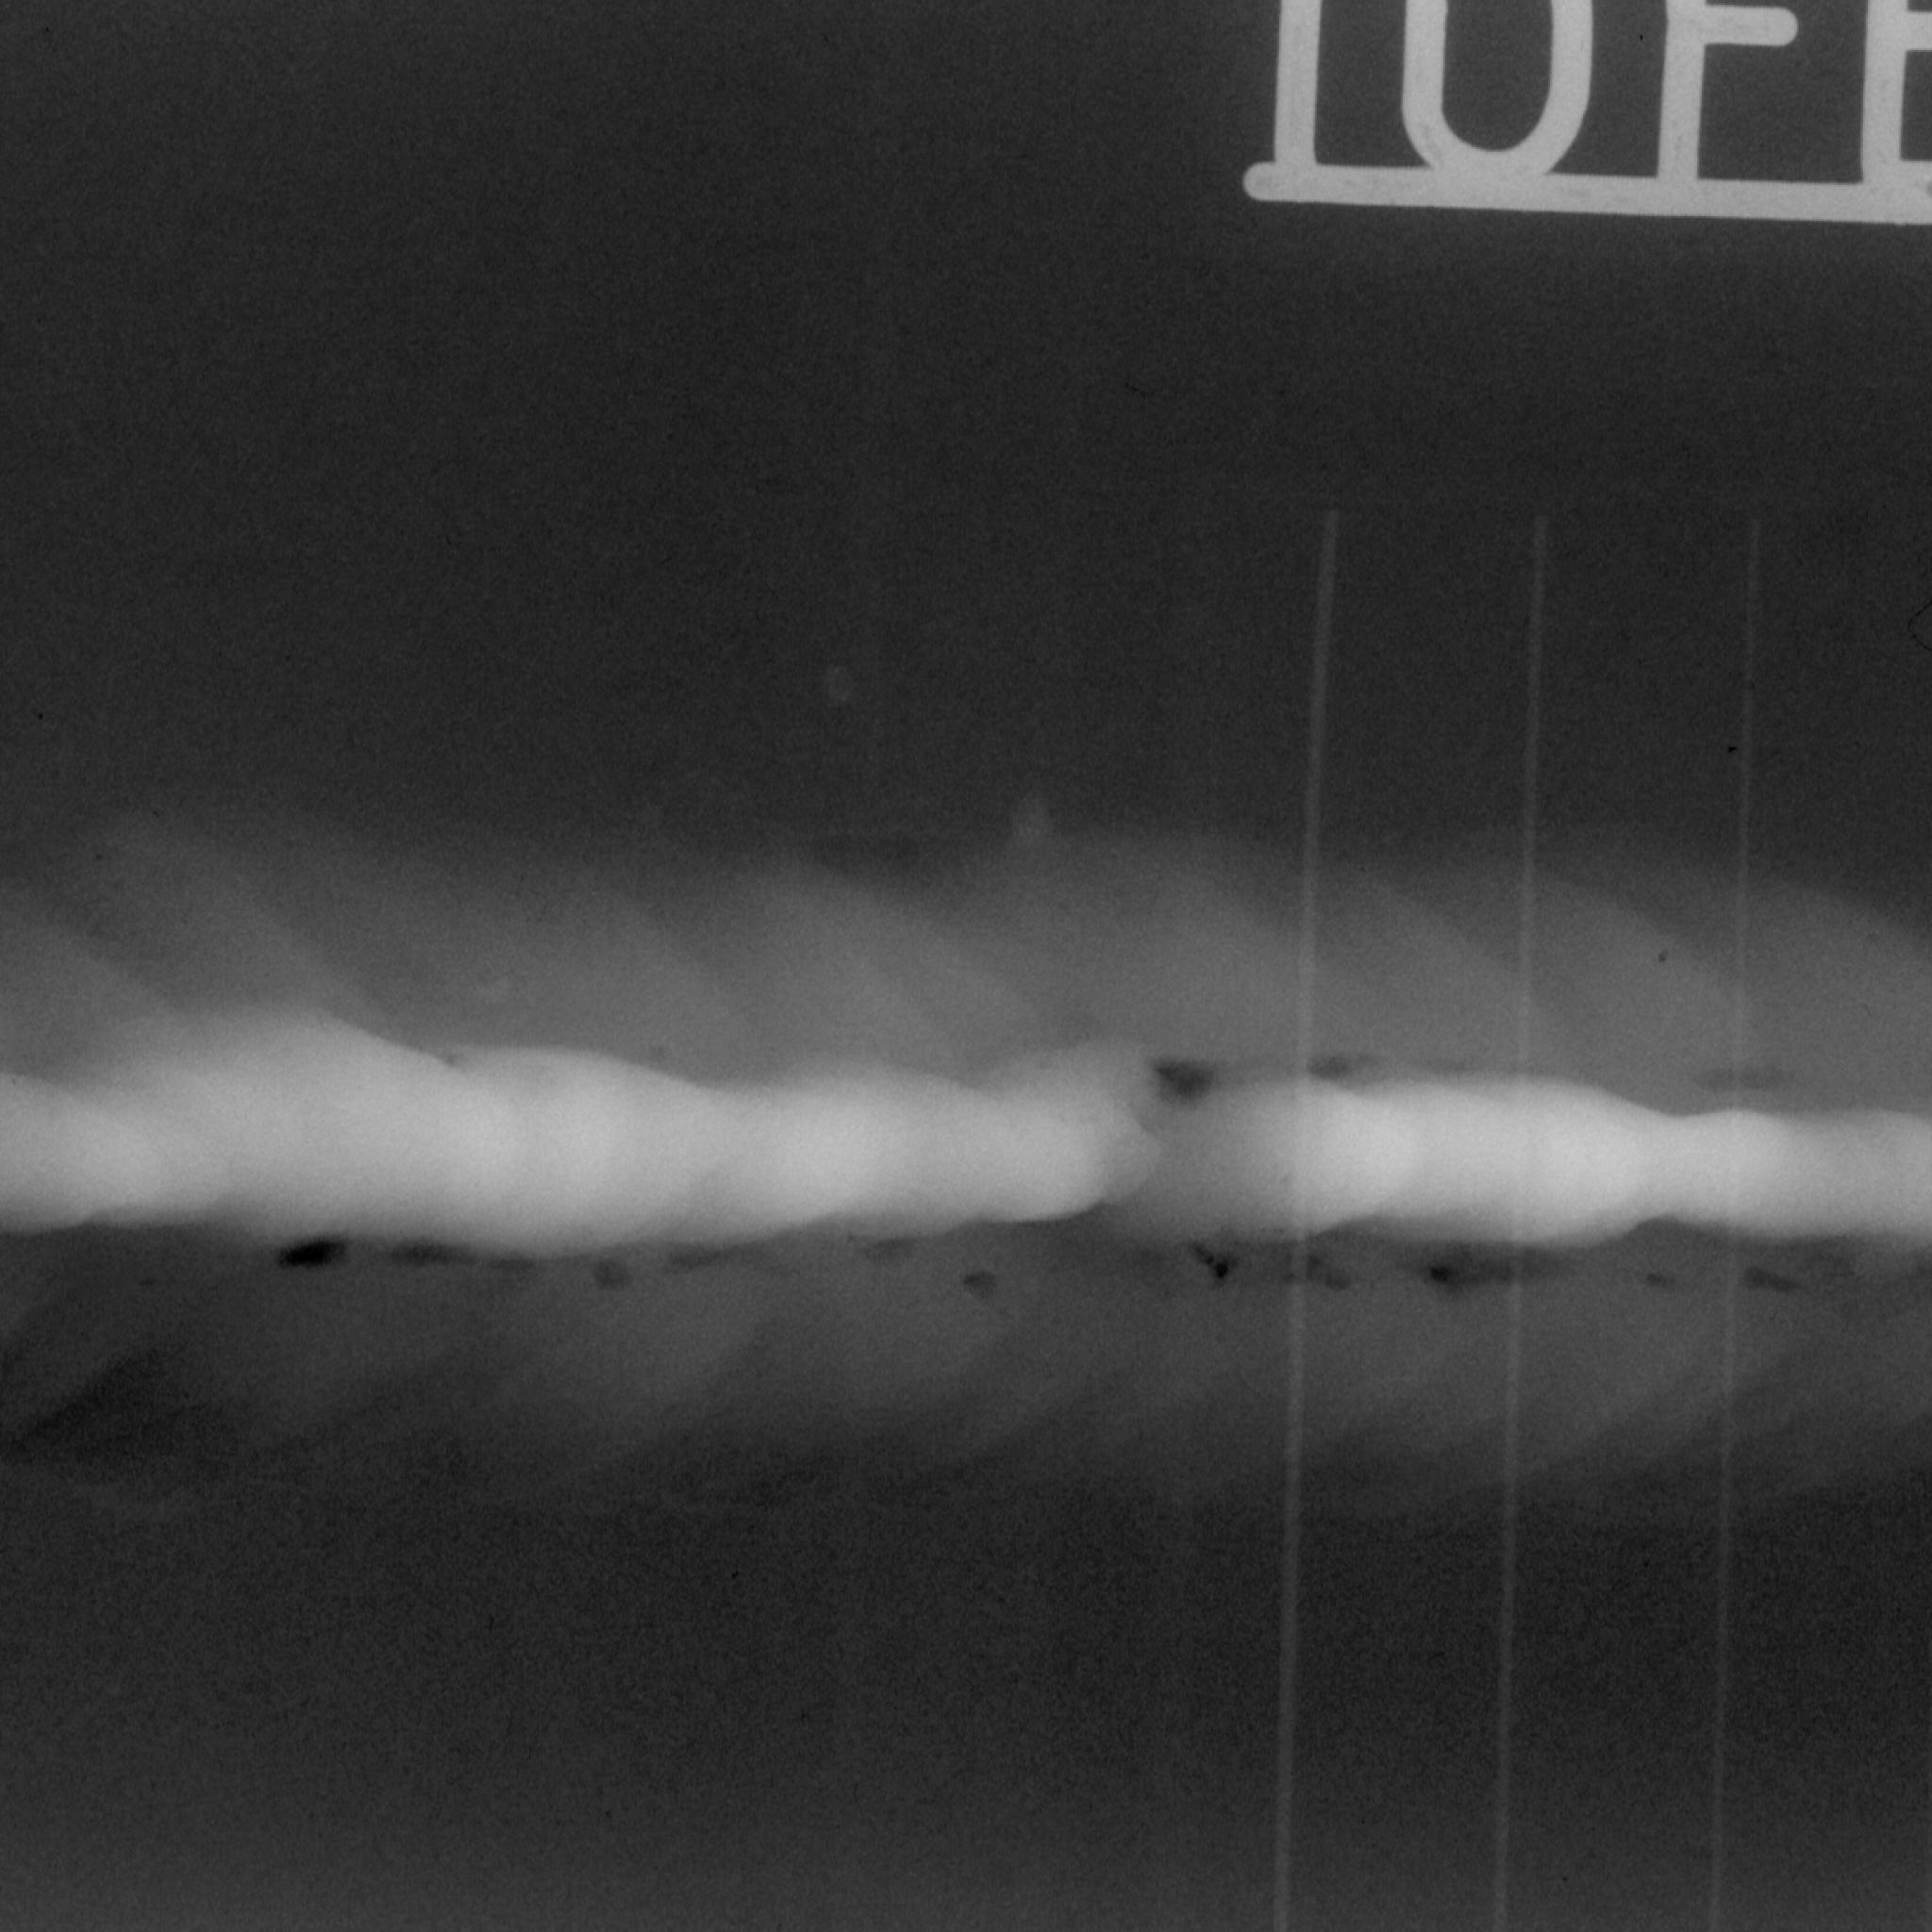FF: (0, 768, 1932, 1437)
PE: (19, 1007, 1930, 1256)
